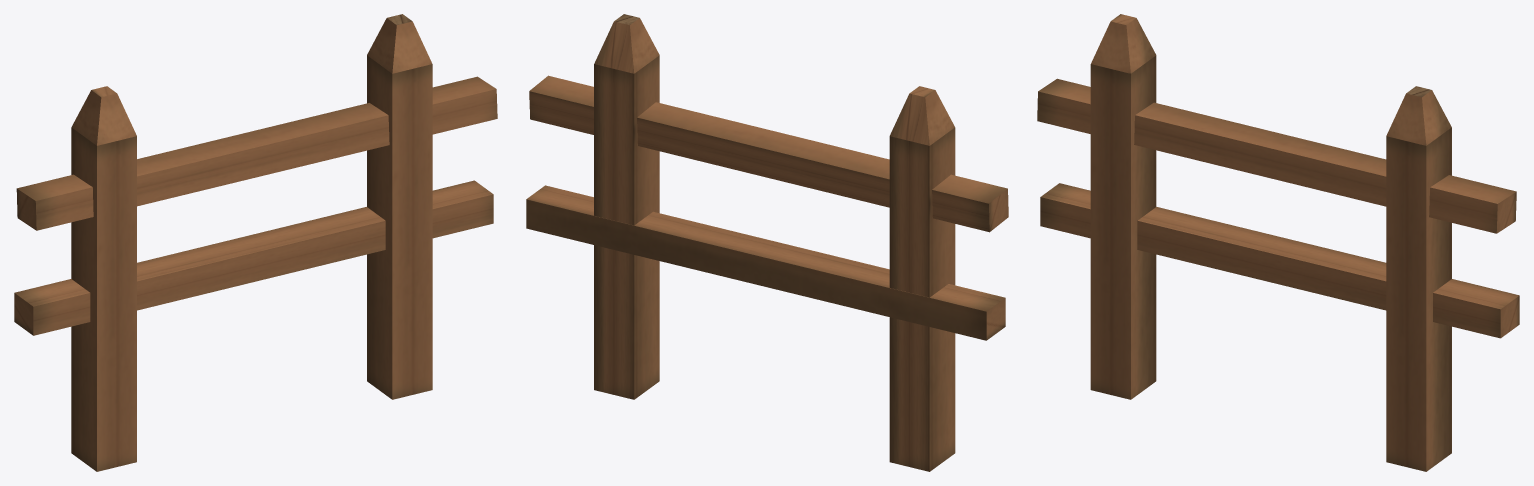
Rendered from Fence  4.fbx.
3 renders of one model, left to right at view 1: azimuth 30°, elevation 25°; view 2: azimuth 150°, elevation 25°; view 3: azimuth 330°, elevation 25°, orthographic.
Visible parts, largest first — view 1: Fence 4; view 2: Fence 4; view 3: Fence 4.
Part boxes in pixels (box(x1,y1,x2,y2)): Fence 4: box(14, 14, 497, 471); Fence 4: box(526, 14, 1008, 471); Fence 4: box(1037, 14, 1519, 471).
Bounding box in the file's own units: 104 × 78.68 × 10.
